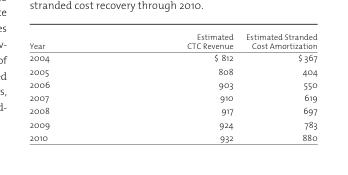table: (28, 29, 316, 143)
table column: (117, 29, 238, 143), (28, 29, 117, 143), (238, 29, 316, 143)
table column header: (28, 29, 316, 50)
table row: (28, 29, 316, 50), (28, 76, 316, 90), (28, 129, 316, 143), (28, 50, 316, 63), (28, 63, 316, 76), (28, 90, 316, 103), (28, 103, 316, 116), (28, 116, 316, 129)
